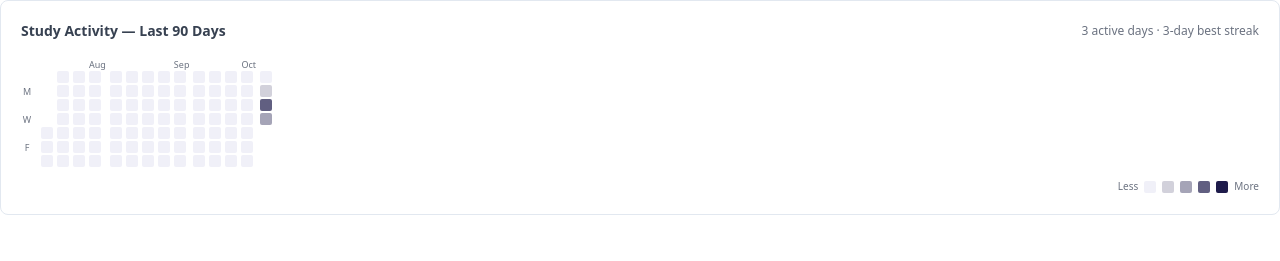
Test: closing a pinned card › a pointer press outside the heatmap closes it (a touch tap does not always move focus)
Click the button named "Wed, Oct 7, 2026: in-app 10m, offline 30m, total study time" at (266, 119), box [260,113,272,125]
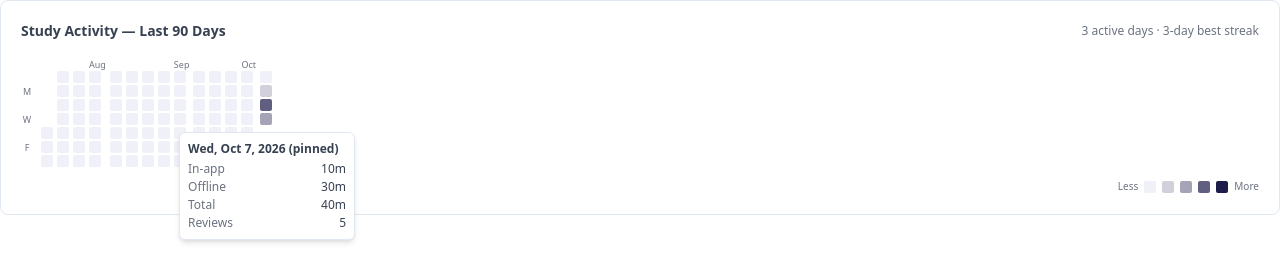
expect the element with test id "heatmap-card" is shown: met, box [179,132,355,240]
Press the mouse on the element that starts with "Study Activity — Last 90 Days" at (640, 108), box [0,0,1279,215]
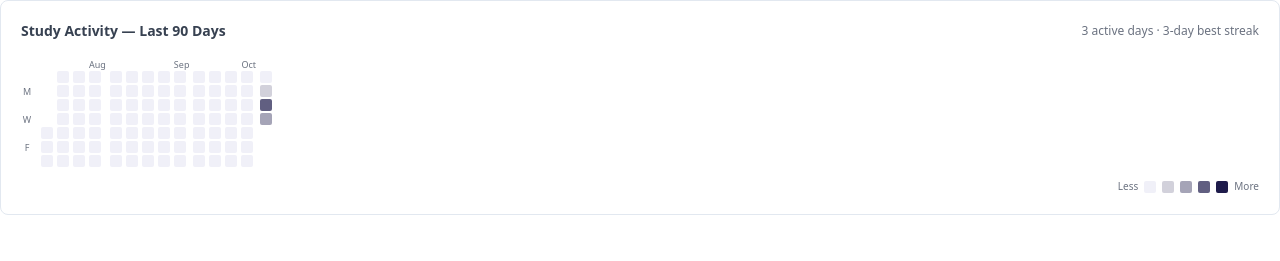
expect the element with test id "heatmap-card" is gone: met
